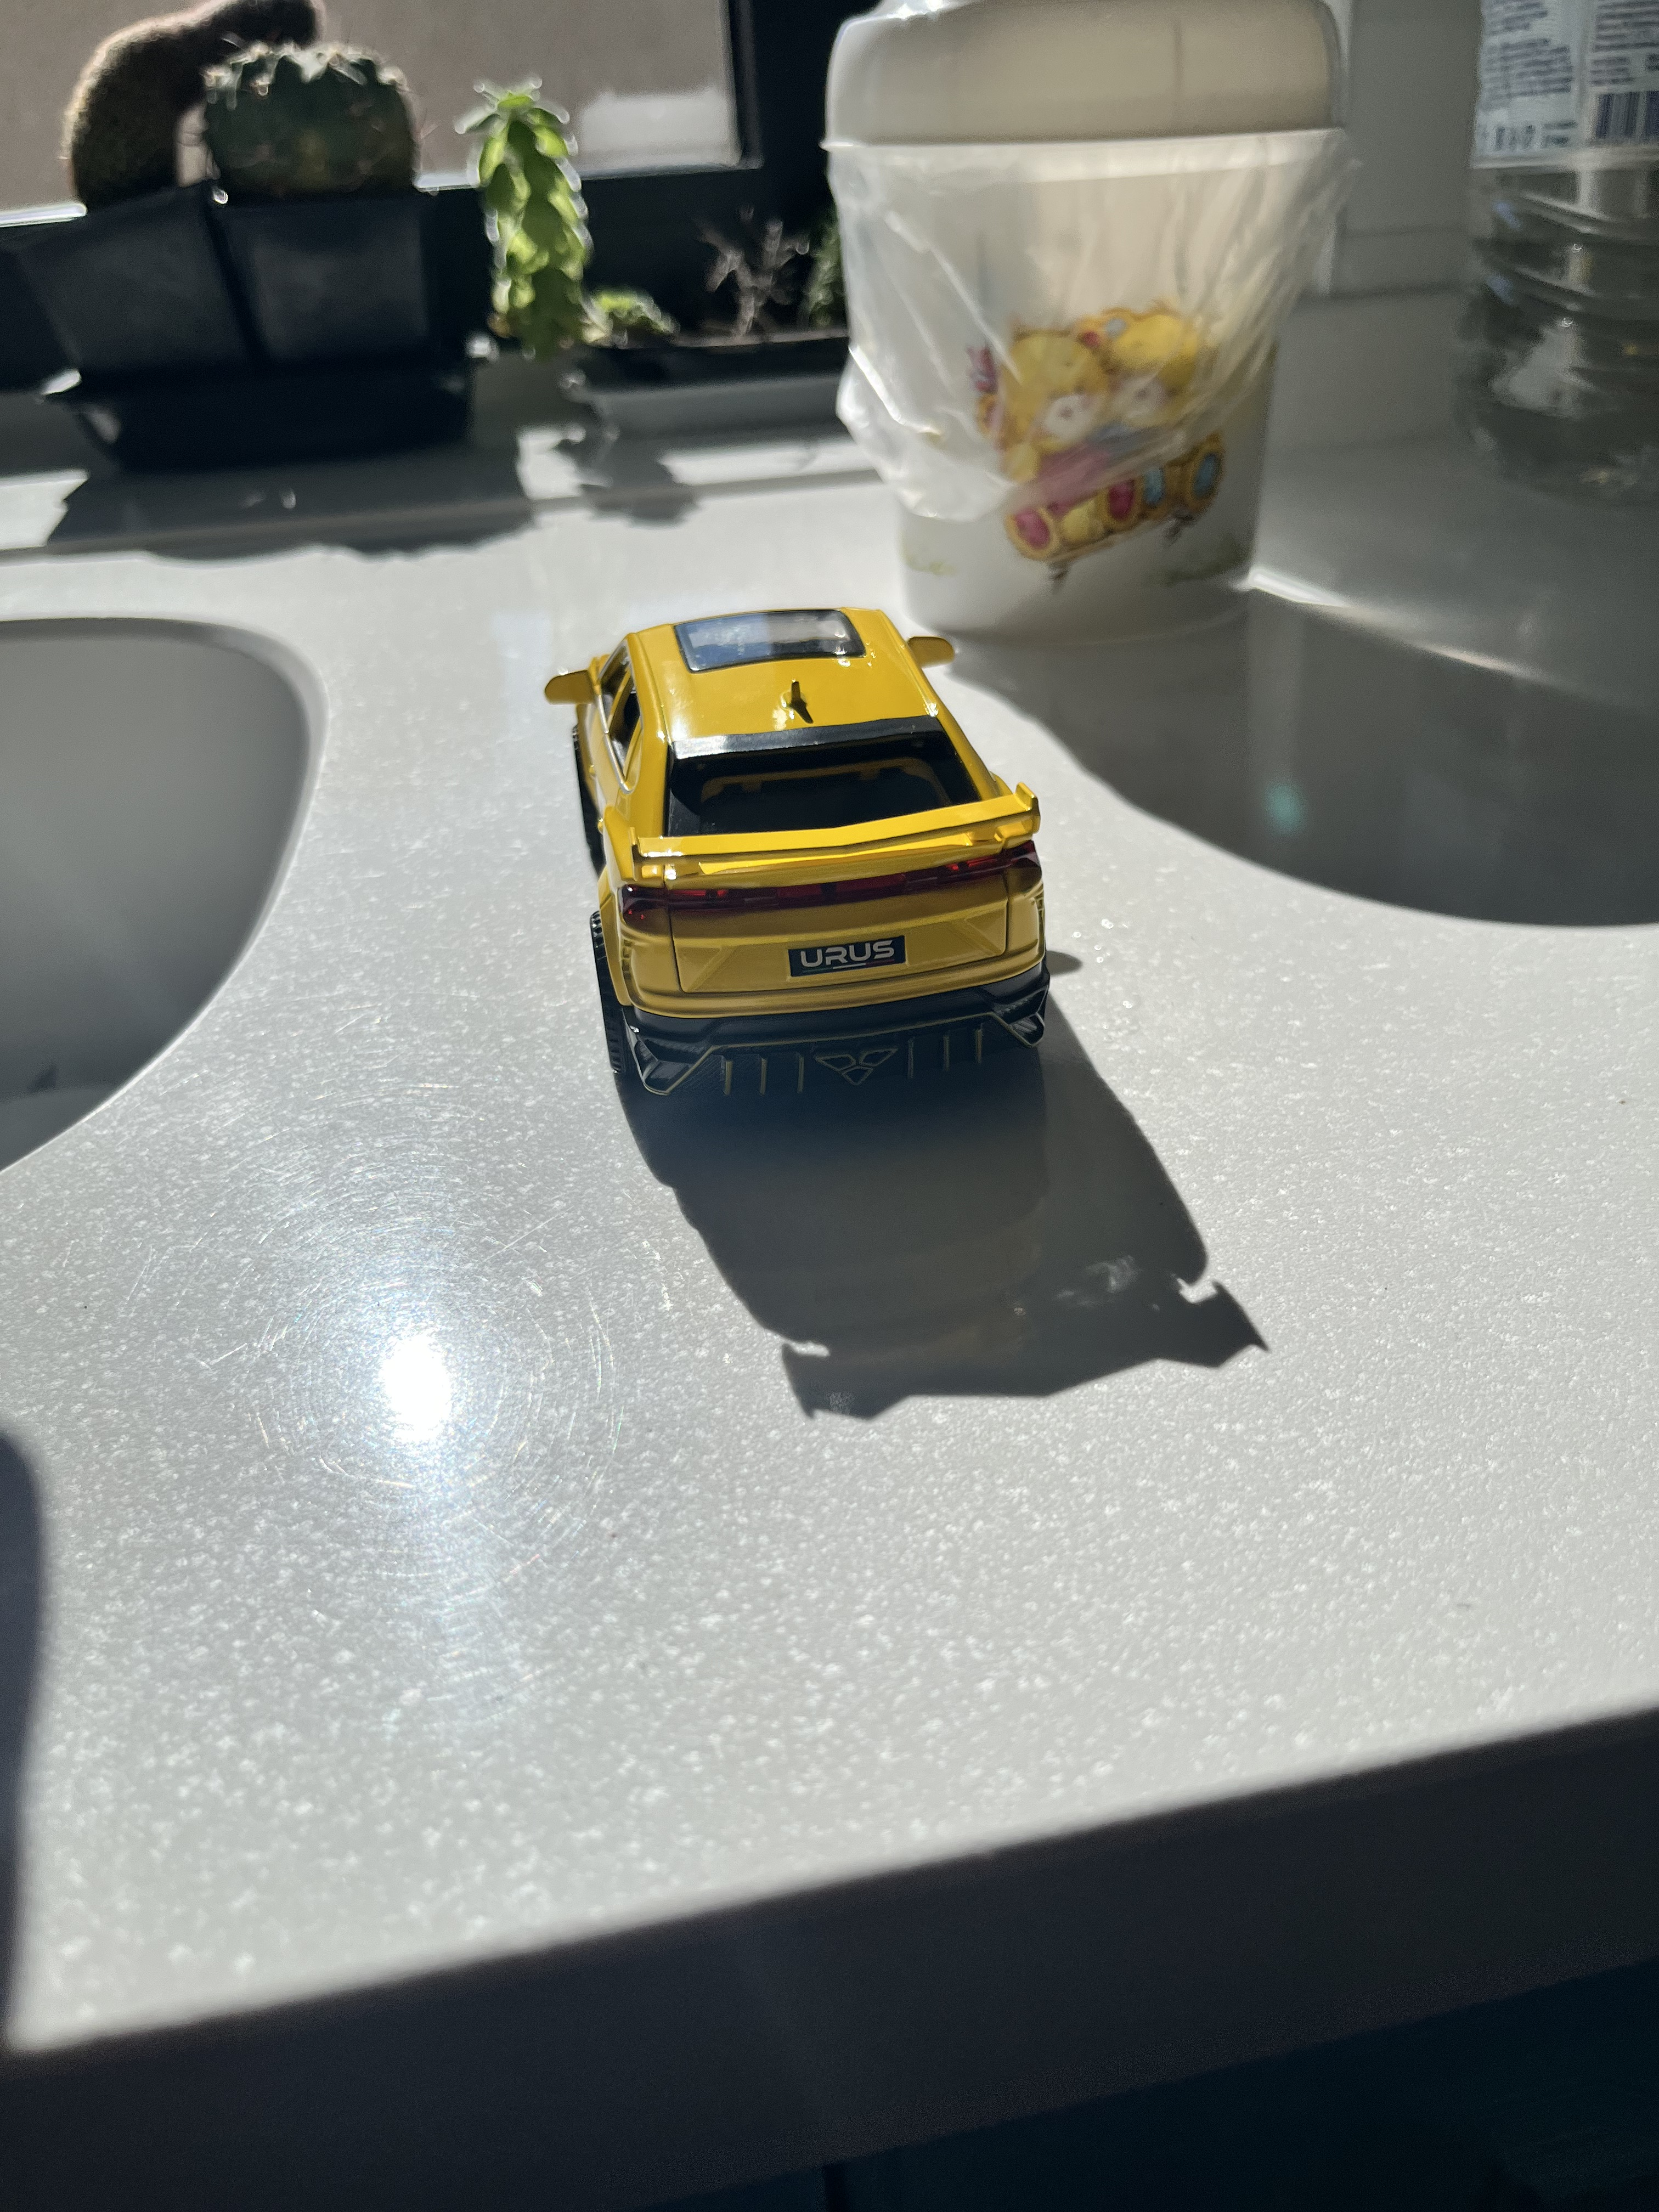lambo: (544, 606, 1051, 1097)
